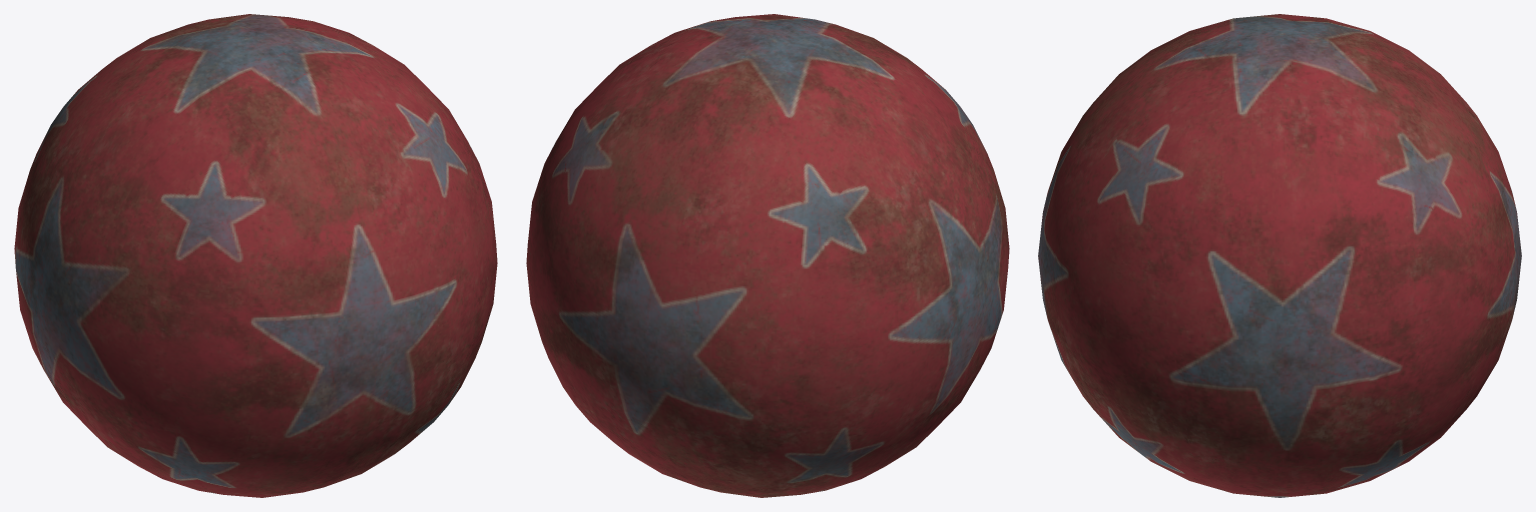
Rendered from SM_CircusBall_A.fbx.
The picture shows the model from 3 angles, left to right: view 1: azimuth 30°, elevation 25°; view 2: azimuth 150°, elevation 25°; view 3: azimuth 270°, elevation 25°; orthographic projection.
Parts seen in each view (by area): view 1: SM_CircusBall_A_LOD0; view 2: SM_CircusBall_A_LOD0; view 3: SM_CircusBall_A_LOD0.
Boxes of the visible parts, bbox=[...] form: SM_CircusBall_A_LOD0: bbox=[14, 14, 497, 497]; SM_CircusBall_A_LOD0: bbox=[526, 14, 1009, 497]; SM_CircusBall_A_LOD0: bbox=[1038, 14, 1521, 497].
Size of the model in its own units: 111 by 111 by 111.
Materials: 1 (1 with a texture image).
